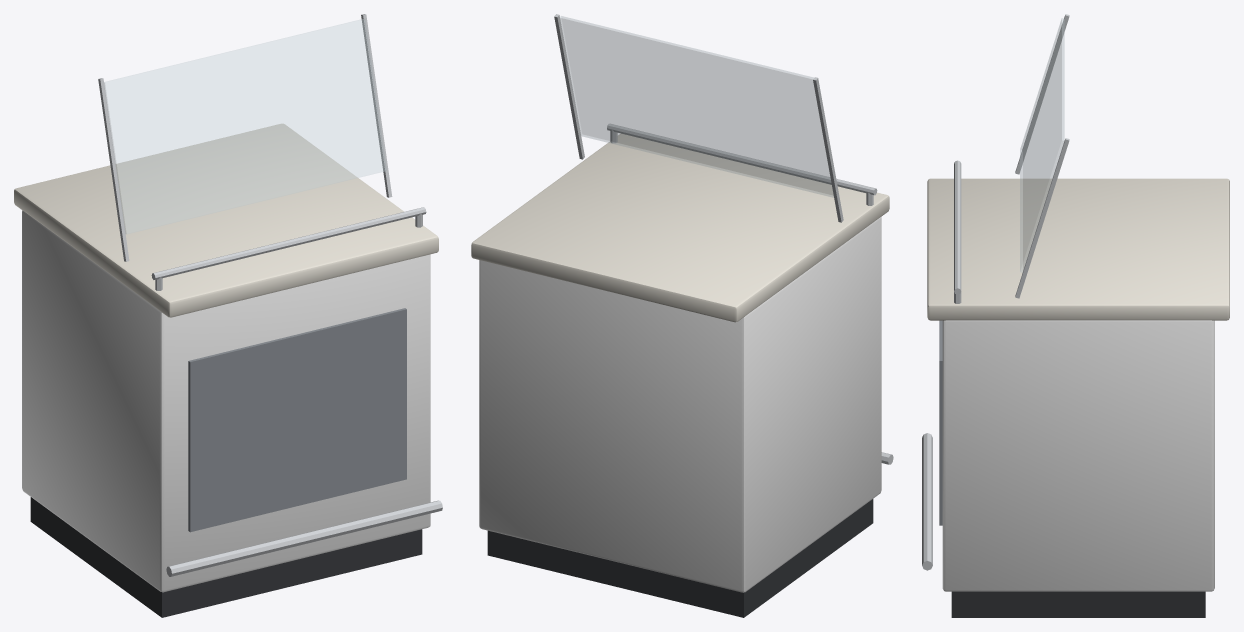
Rendered from sh_foodcounter.glb.
3 views of the same model, side by side, from view 1: azimuth 30°, elevation 25°; view 2: azimuth 150°, elevation 25°; view 3: azimuth 270°, elevation 25° (orthographic). The views are drawn at different scales.
Parts seen in each view (by area): view 1: body, top, guard, panel, kick, foot; view 2: body, top, guard, kick, foot; view 3: body, top, kick, guard, foot, panel.
Part boxes in pixels (left/top/right/bottom): body: left=22, top=210, right=430, bottom=592; top: left=14, top=123, right=438, bottom=317; guard: left=104, top=19, right=386, bottom=233; panel: left=188, top=308, right=406, bottom=532; kick: left=30, top=497, right=422, bottom=617; foot: left=98, top=14, right=442, bottom=576; body: left=479, top=217, right=881, bottom=592; top: left=471, top=133, right=889, bottom=322; guard: left=560, top=16, right=833, bottom=197; kick: left=487, top=499, right=873, bottom=617; foot: left=554, top=14, right=893, bottom=464; body: left=942, top=320, right=1214, bottom=591; top: left=927, top=178, right=1229, bottom=320; kick: left=951, top=591, right=1205, bottom=617; guard: left=1020, top=18, right=1064, bottom=272; foot: left=922, top=14, right=1069, bottom=570; panel: left=939, top=320, right=942, bottom=525.
Size of the model in its own units: 1 by 1.75 by 1.02.
